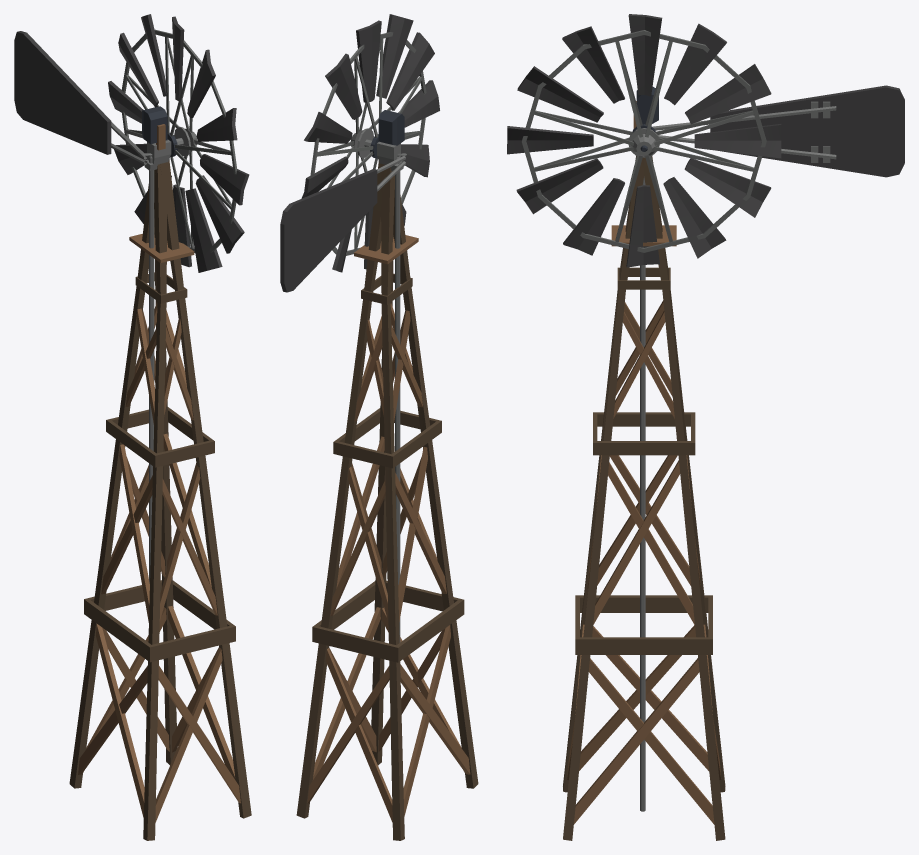
The model's file is SM_Windmill_01.gltf.
3 views of the same model, side by side, from view 1: azimuth 30°, elevation 25°; view 2: azimuth 150°, elevation 25°; view 3: azimuth 270°, elevation 25° (orthographic). The views are drawn at different scales.
Visible parts, largest first — view 1: SM_Windmill_01; view 2: SM_Windmill_01; view 3: SM_Windmill_01.
Part boxes in pixels (x1,y1,x2,y2): SM_Windmill_01: (14,14,251,840); SM_Windmill_01: (280,14,478,840); SM_Windmill_01: (507,14,904,840).
Bounding box in the file's own units: 1.29 × 9.12 × 4.07.
Materials: 1 (1 with a texture image).
